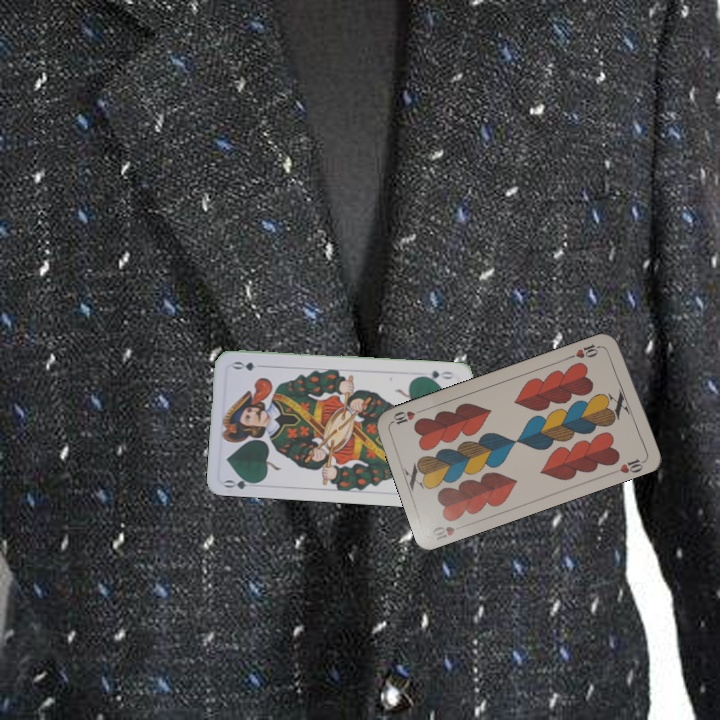GO: (221, 472, 262, 492), (416, 366, 457, 383)
H10: (566, 340, 605, 361), (428, 522, 458, 543)
